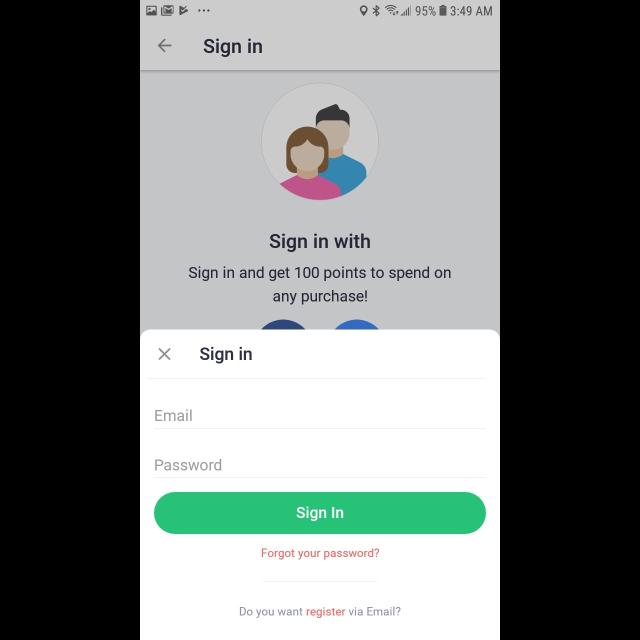icon: (158, 39, 172, 53), (158, 348, 172, 360)
image: (260, 83, 380, 201)
input: (154, 458, 486, 478), (154, 409, 486, 429)
panel: (140, 328, 500, 640)
text: (189, 266, 451, 306), (240, 606, 400, 618), (270, 234, 370, 252), (262, 548, 380, 560), (204, 38, 262, 58), (200, 346, 252, 364), (156, 459, 222, 471), (156, 410, 192, 422)
textbutton: (154, 492, 486, 536)
uppertaskbar: (140, 1, 500, 18)
